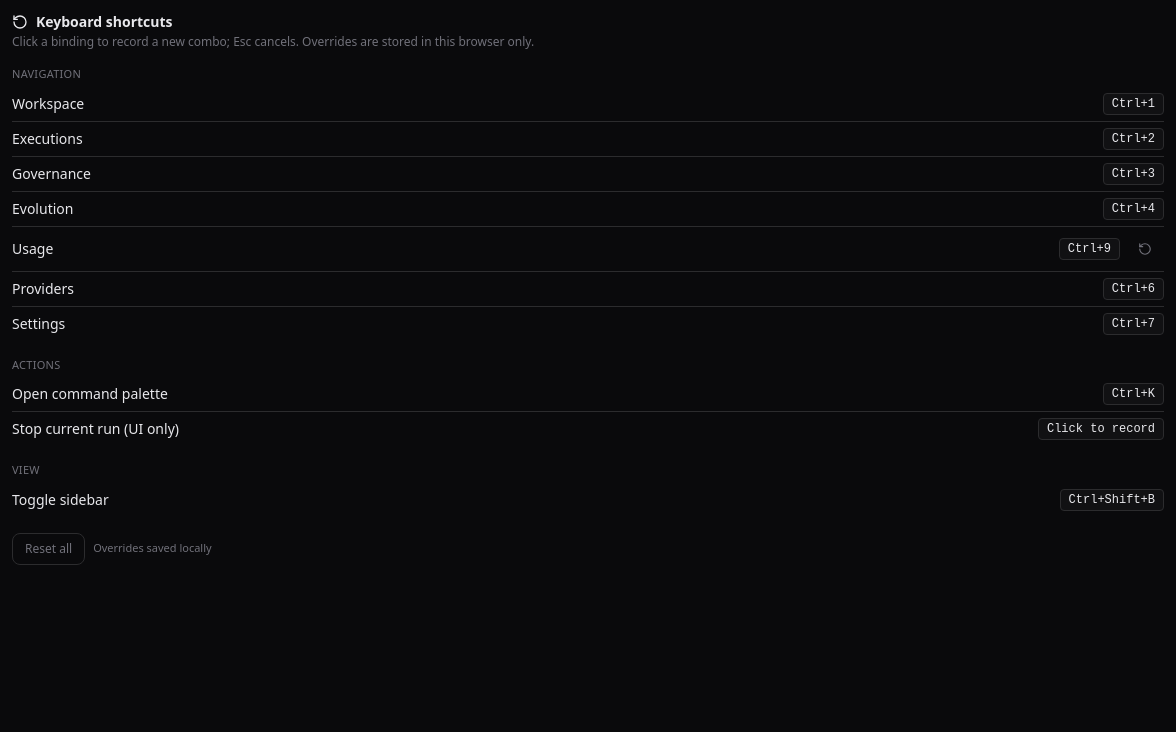
Test case: ShortcutsSection › resets a single override and honours stored overrides on mount
Check: the button with test id "shortcuts-record" reads "Ctrl+9", box [1059,238,1120,260]
Click the button with test id "shortcuts-reset-all": click(49, 548) [12,532,85,564]
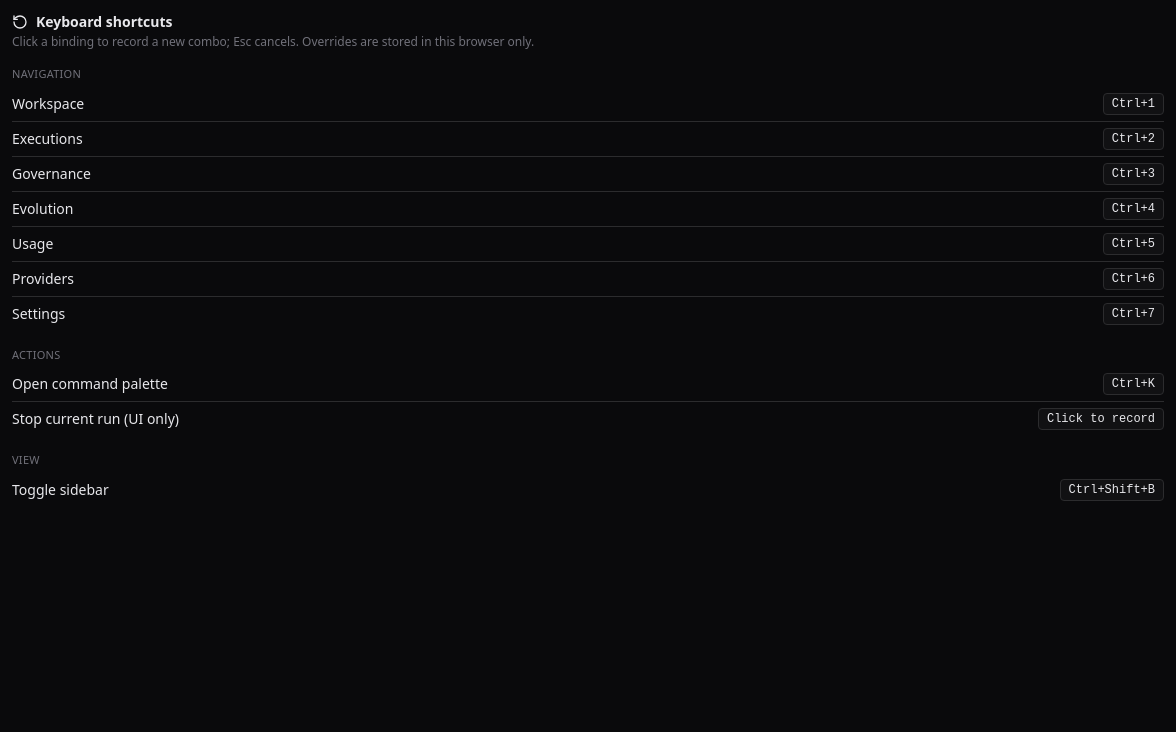
Check: the button with test id "shortcuts-record" reads "Ctrl+5", box [1103,232,1164,254]
